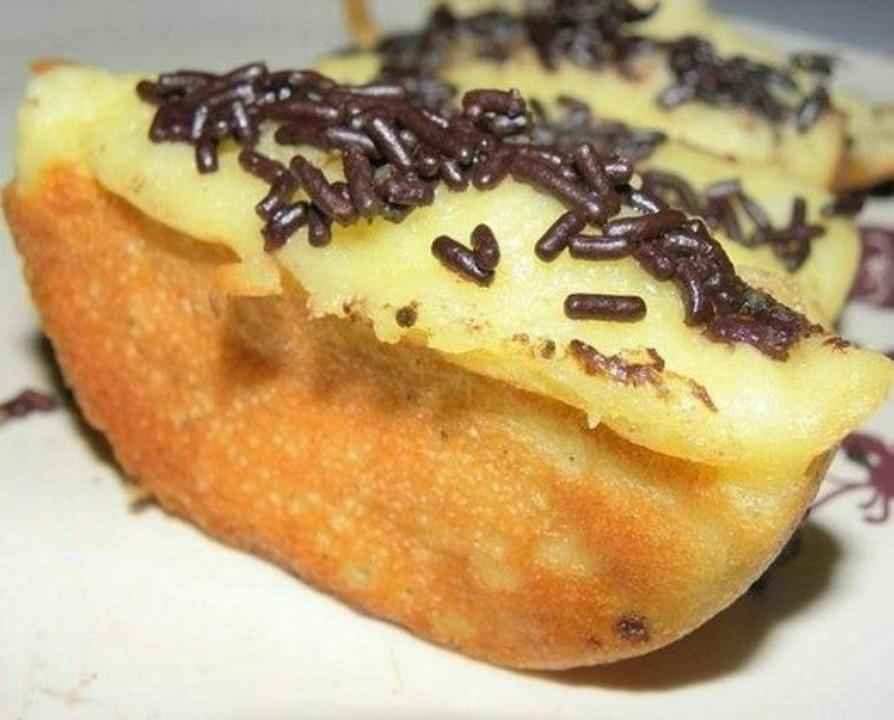pukis: (8, 49, 860, 686)
